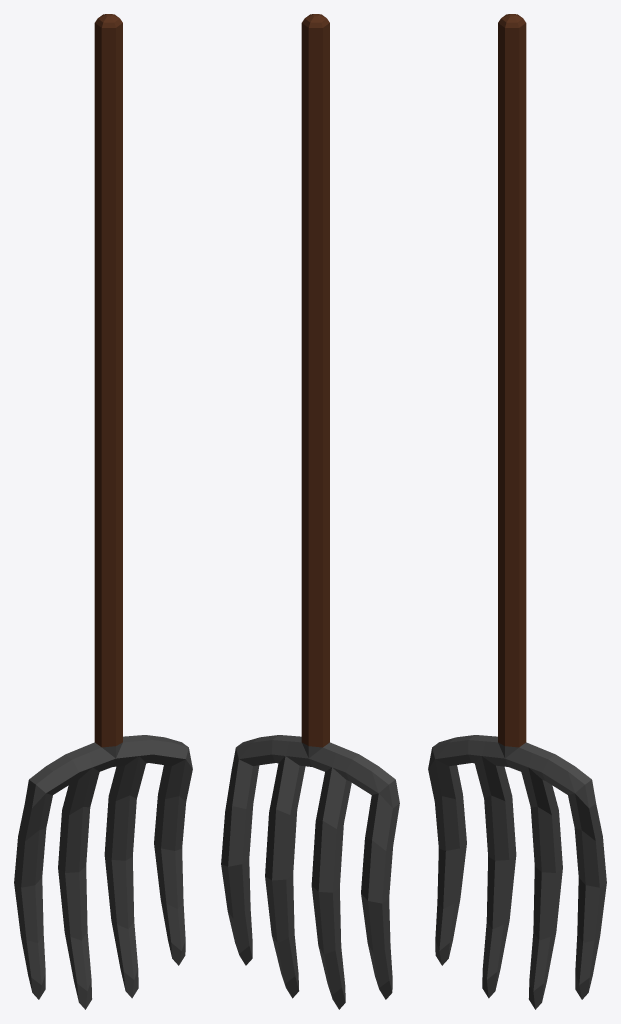
File: pitchfork.fbx
3 renders of one model, left to right at view 1: azimuth 30°, elevation 25°; view 2: azimuth 150°, elevation 25°; view 3: azimuth 330°, elevation 25°, orthographic.
Parts seen in each view (by area): view 1: pitchfork; view 2: pitchfork; view 3: pitchfork.
Boxes of the visible parts, bbox=[...] form: pitchfork: bbox=[14, 14, 192, 1009]; pitchfork: bbox=[221, 14, 399, 1009]; pitchfork: bbox=[428, 14, 606, 1009].
Bounding box in the file's own units: 34.54 × 203 × 10.24.
